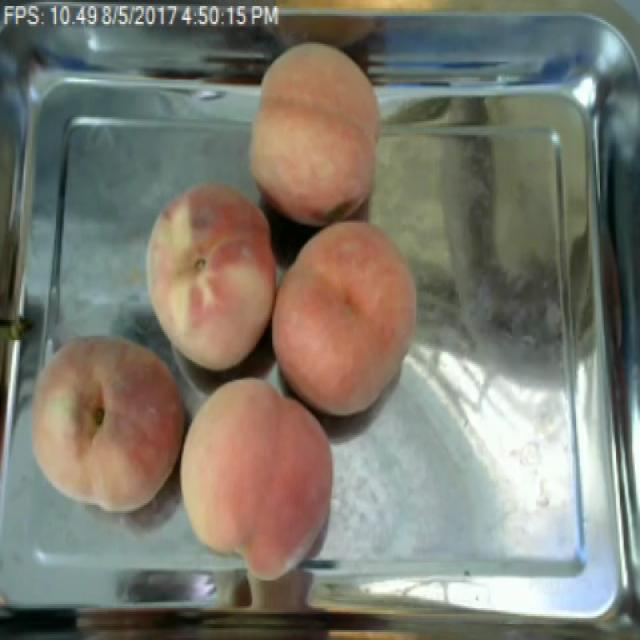Fruit: (167, 368, 345, 588), (18, 322, 198, 527), (273, 211, 428, 427), (240, 32, 392, 230), (139, 173, 280, 380)
